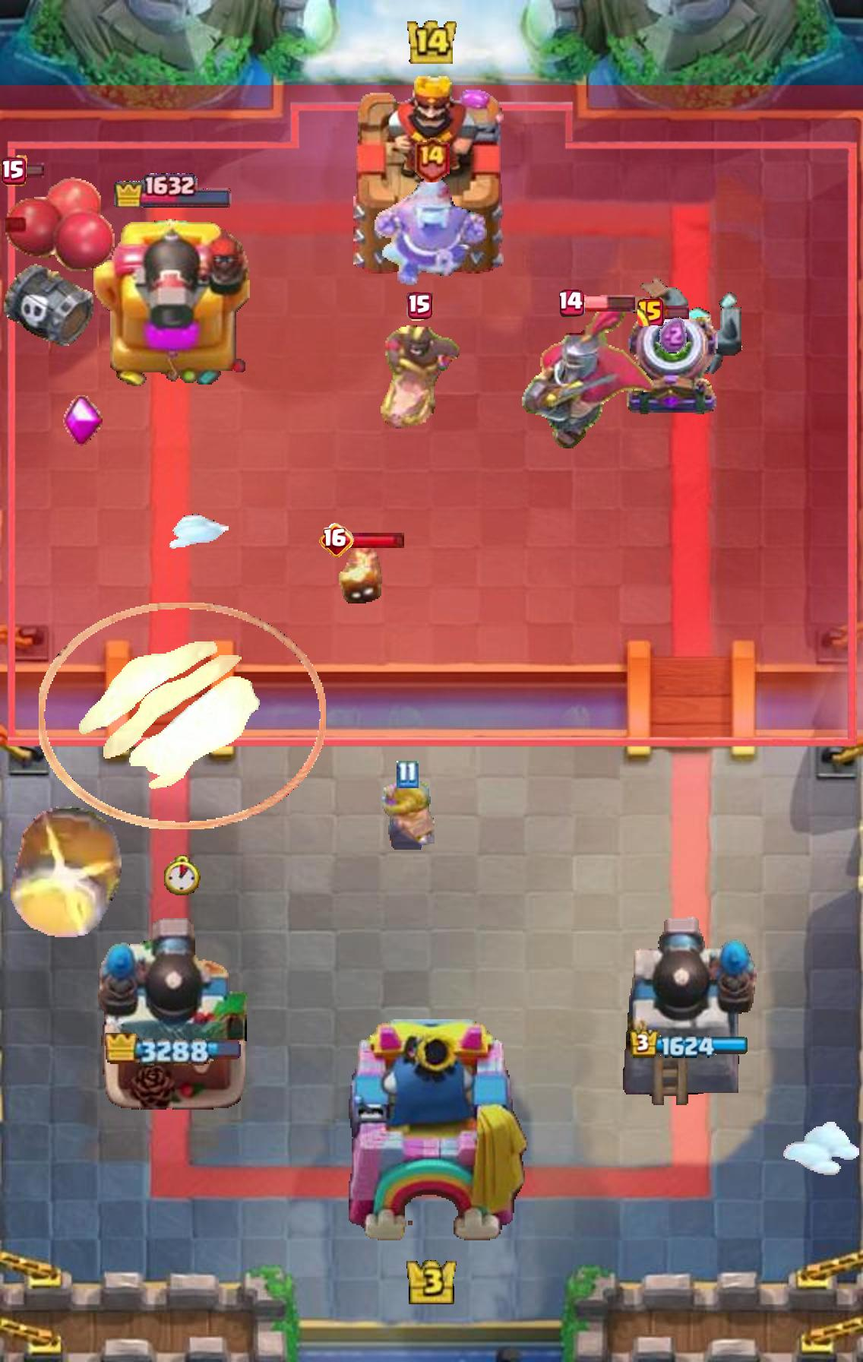elixir: (659, 317, 688, 353)
